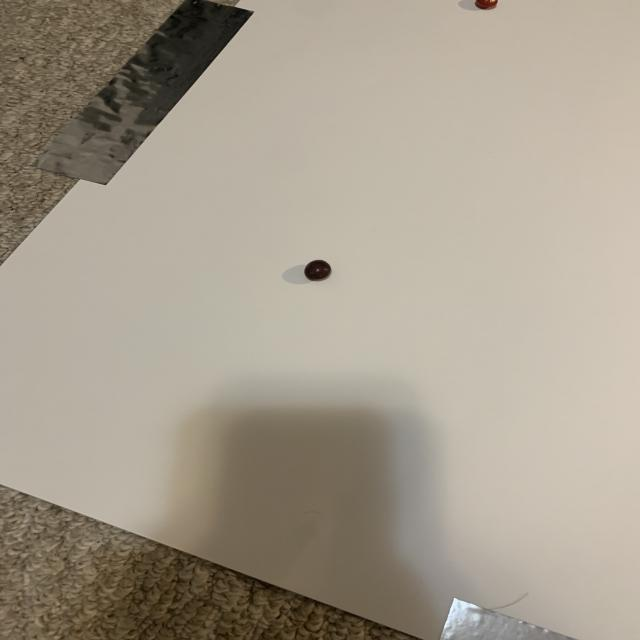smartie: (304, 260, 331, 281)
